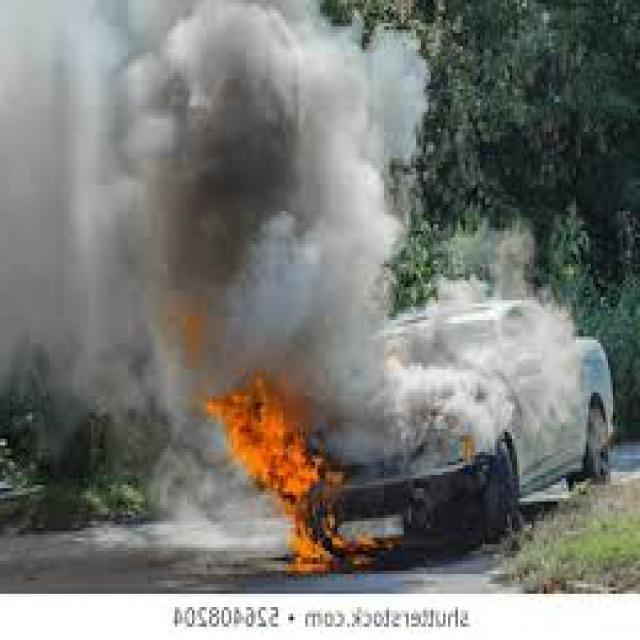Fire: (205, 388, 342, 574)
Smoke: (38, 40, 412, 370)
